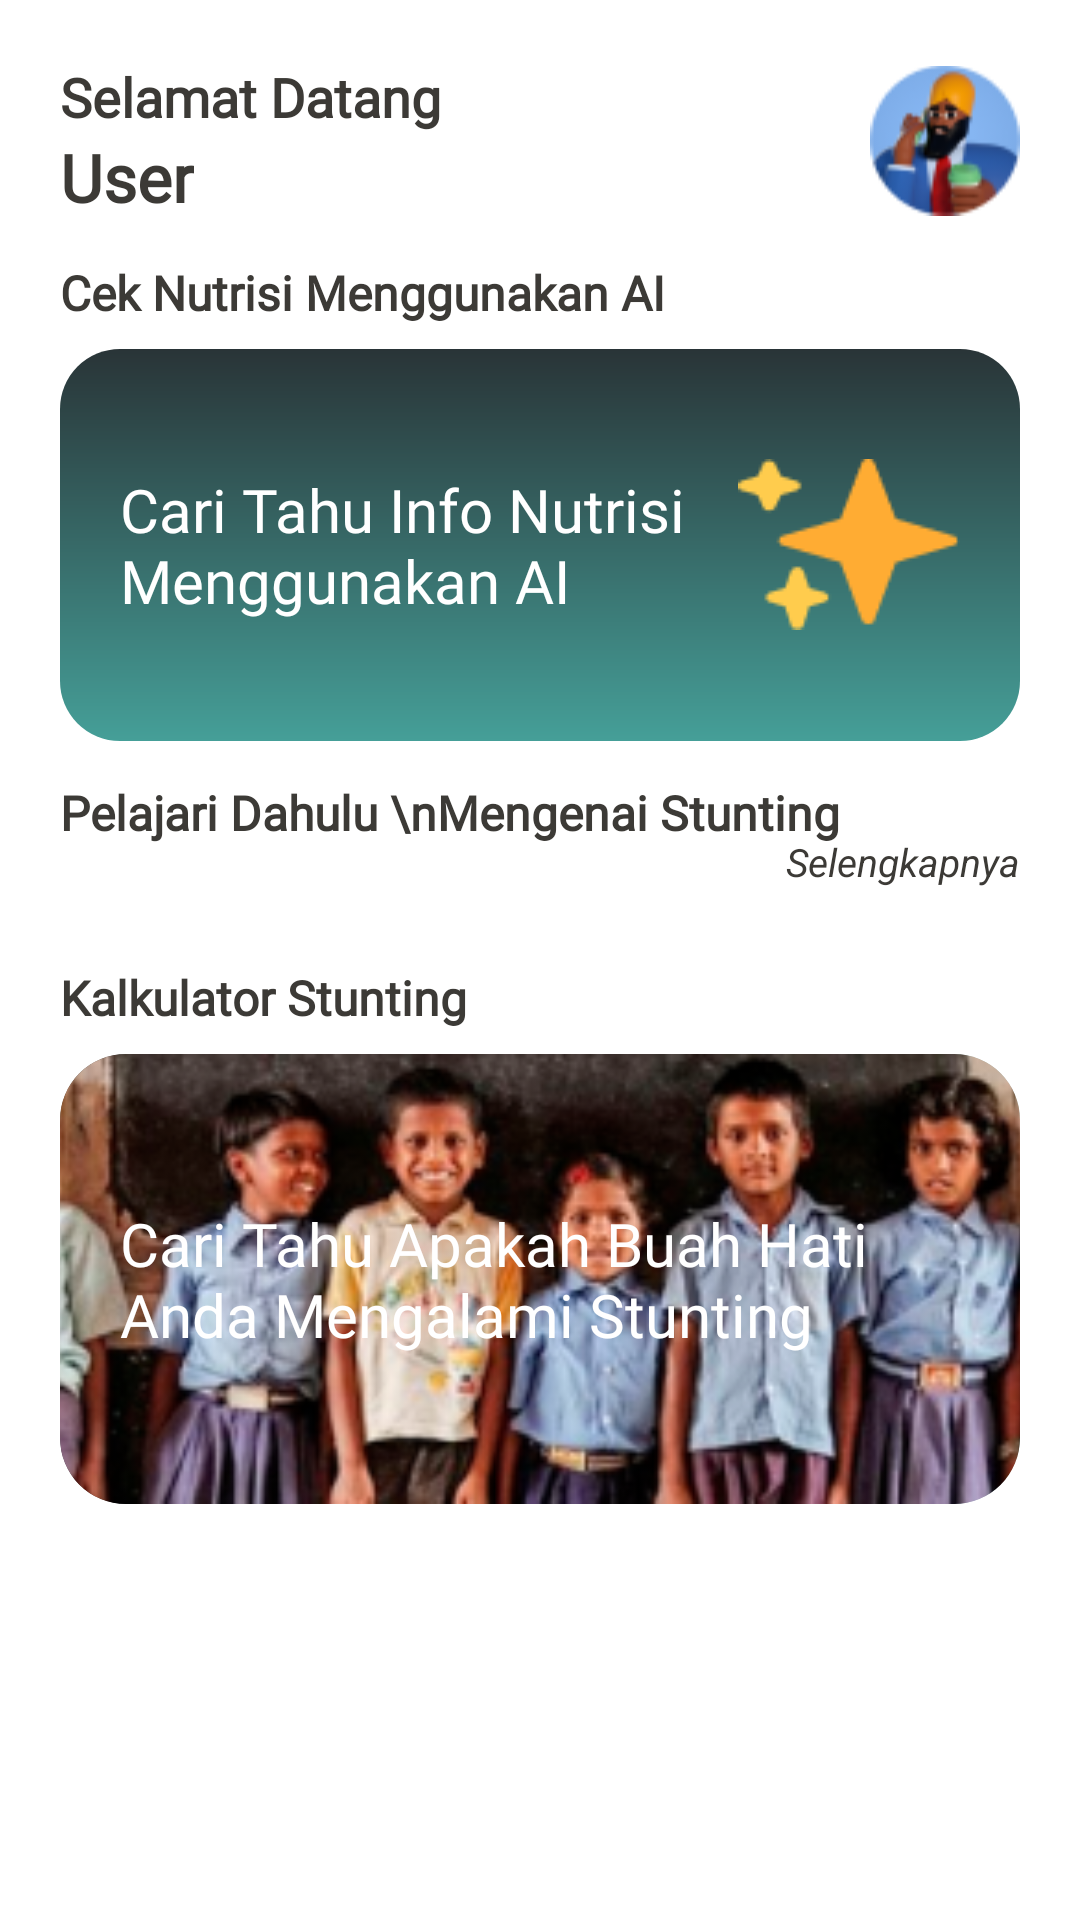

Screen size 1080px×1920px. Icon name, then its center in pixels as point (x, y):
emoji sparkle star: point (849, 544)
